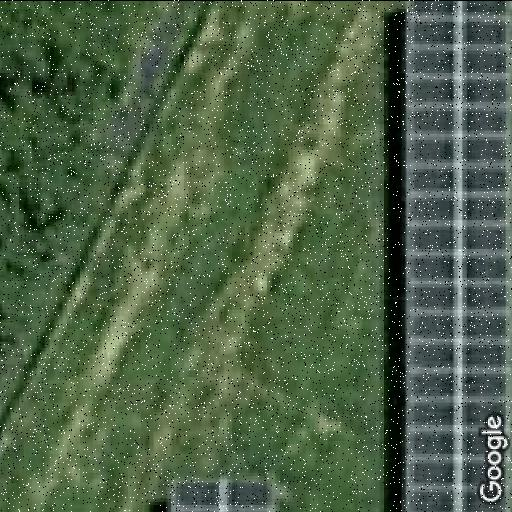solar-panel: (405, 0, 512, 512), (168, 474, 280, 512)
